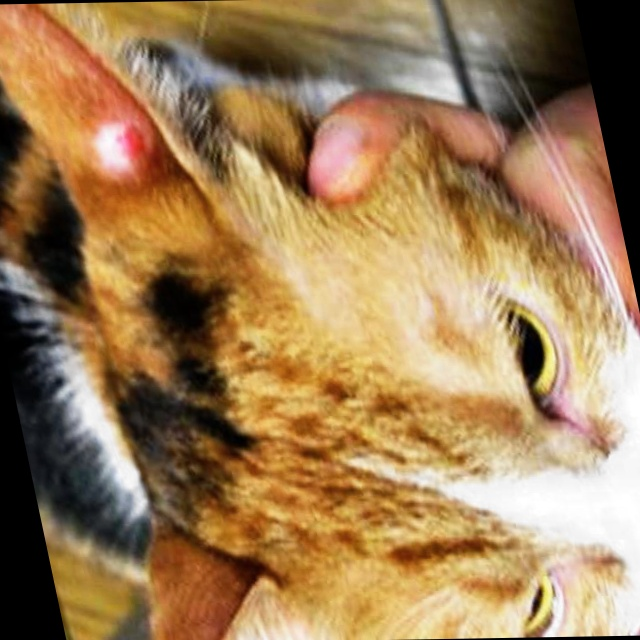lump_and_bump: (86, 120, 158, 174)
